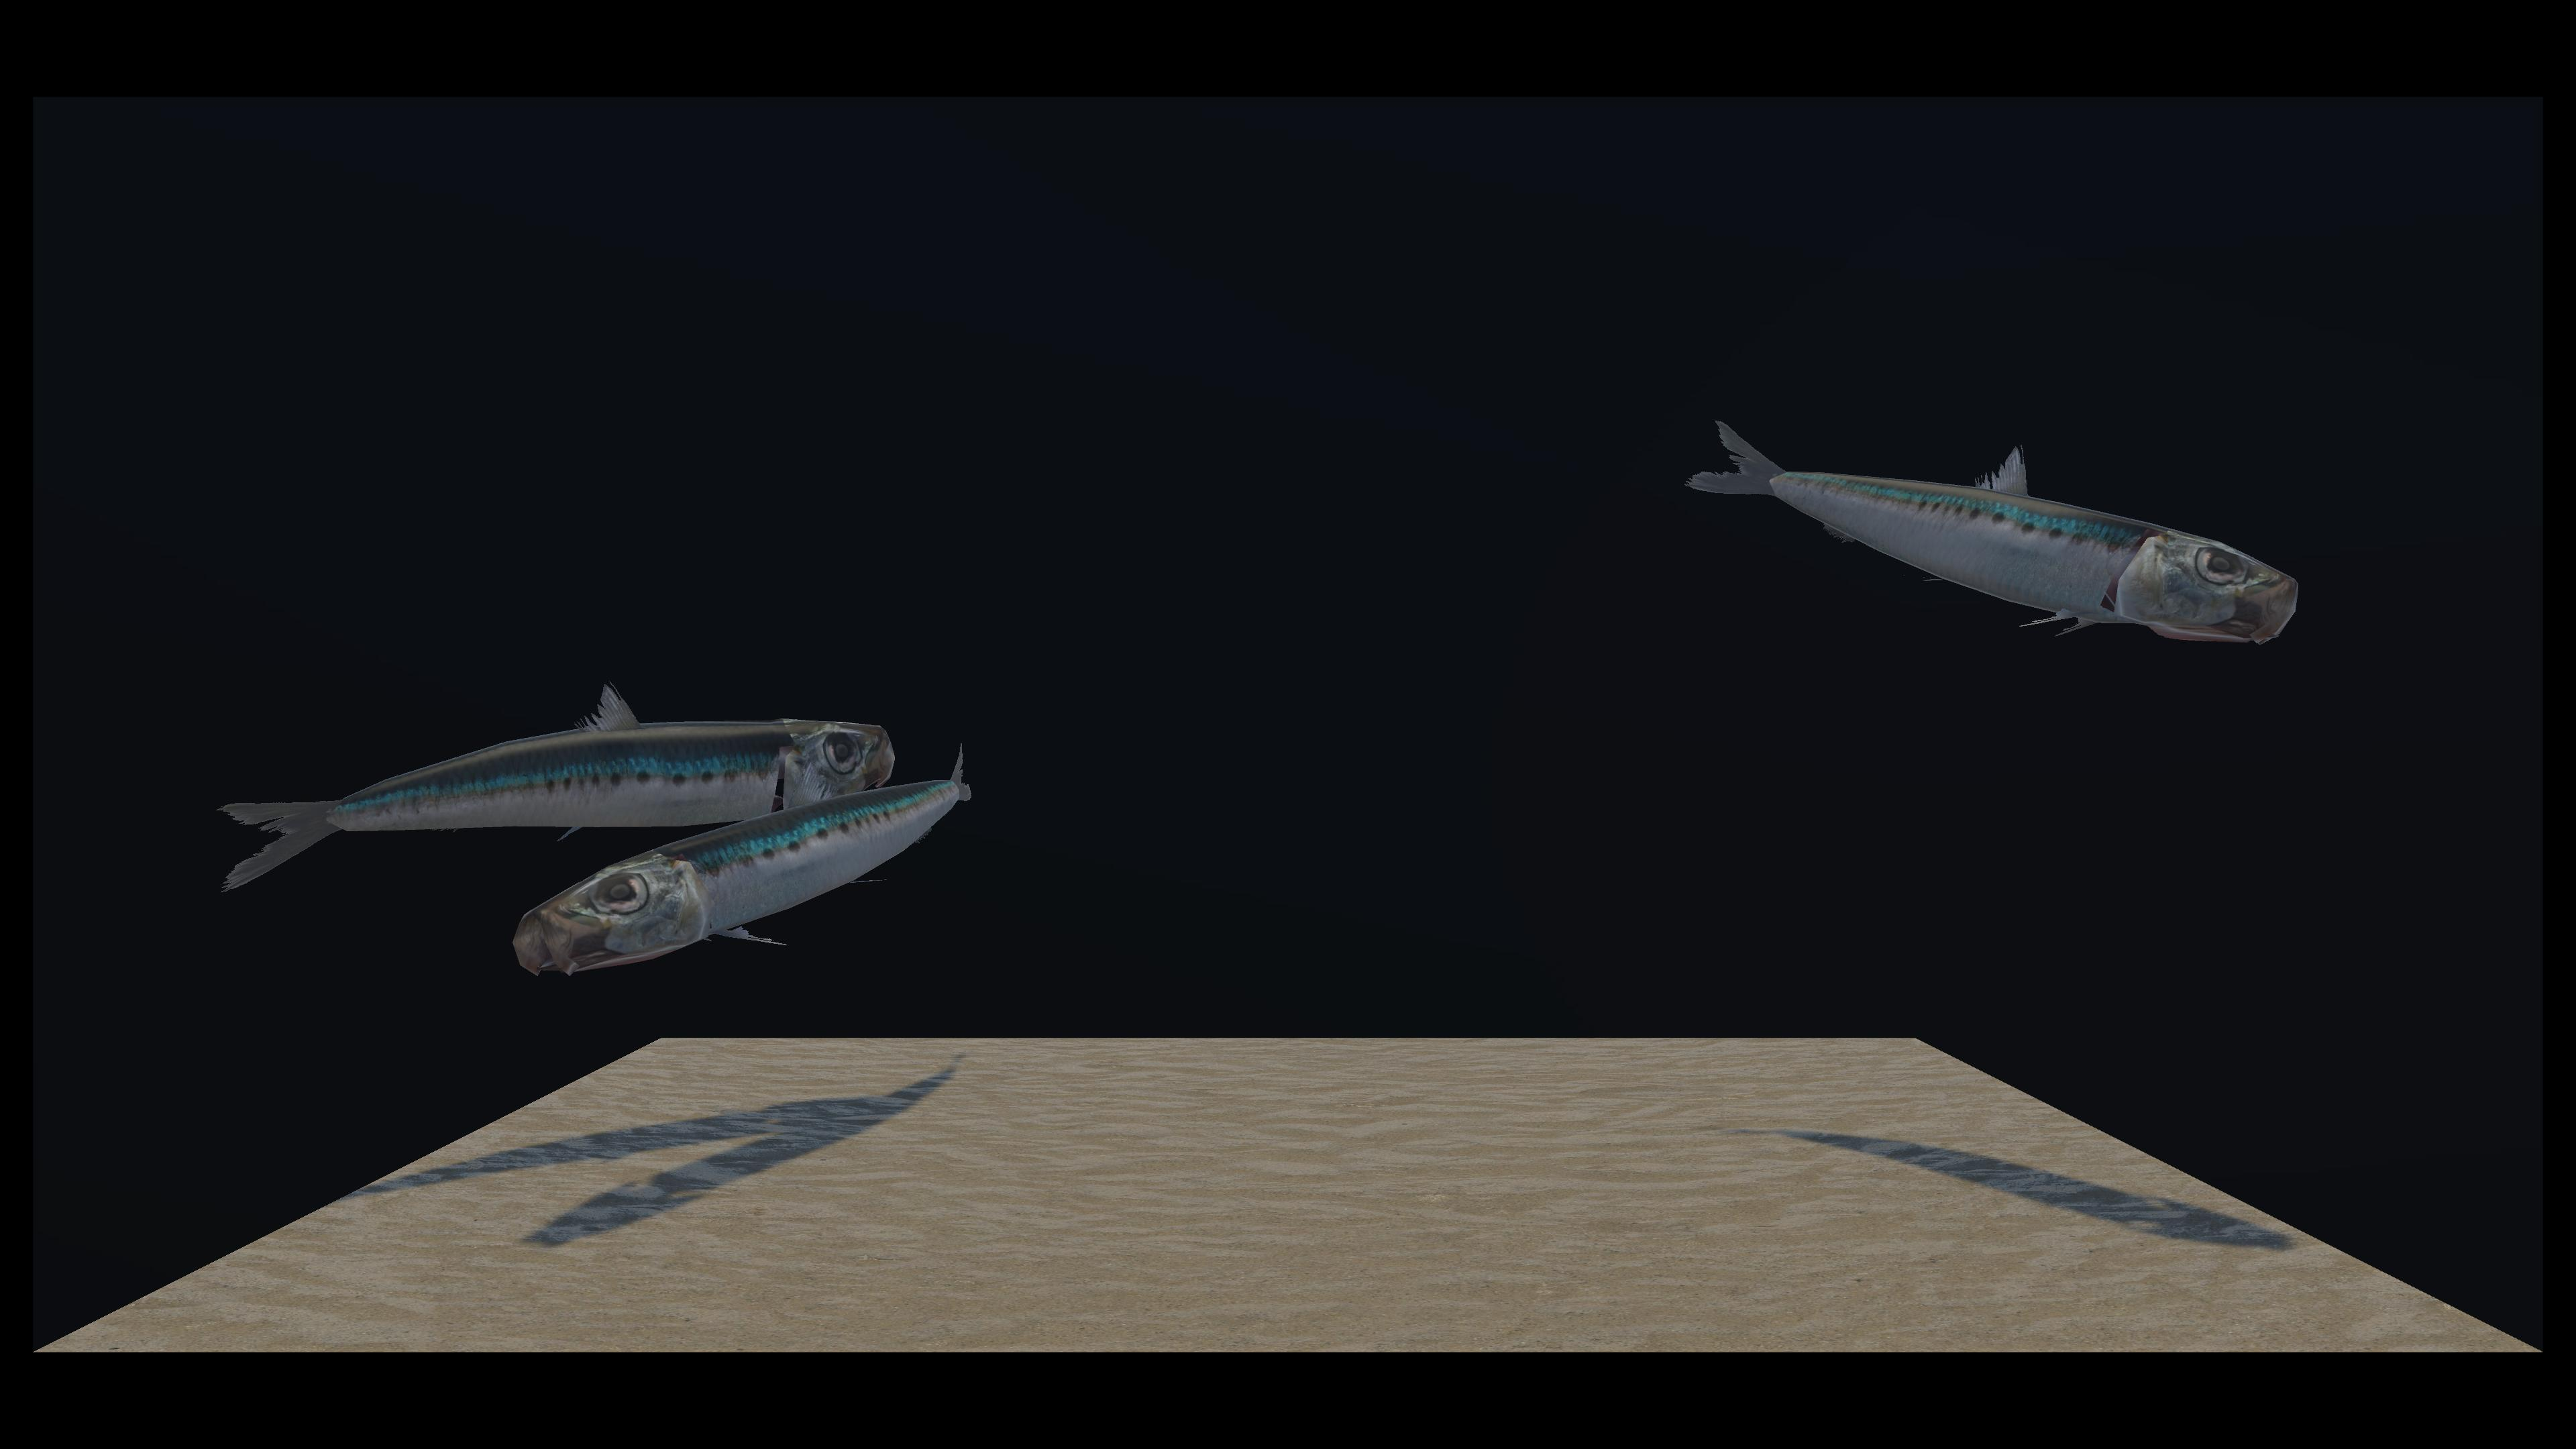Sardine_Front: (228, 423, 998, 885), (957, 418, 2291, 646), (540, 396, 973, 959)
